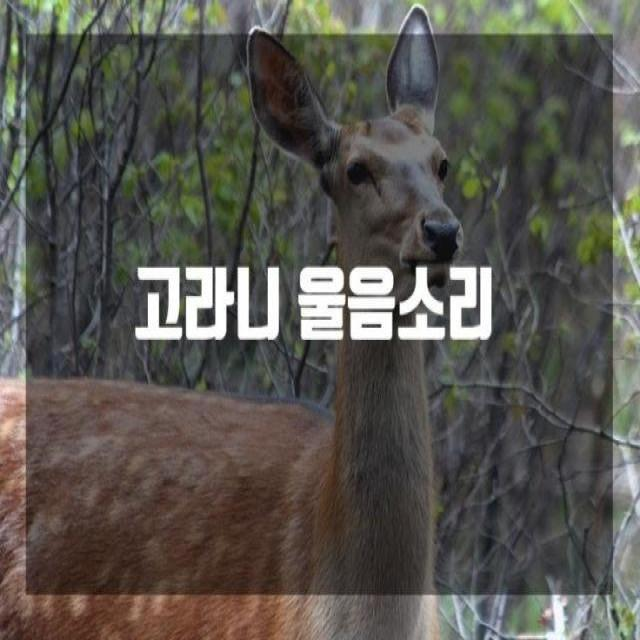deer: (0, 5, 450, 640)
